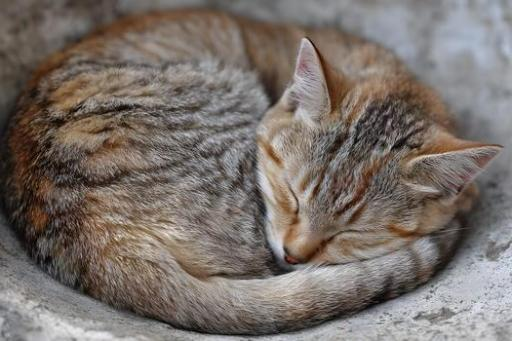cat_sleeping: (1, 11, 502, 334)
